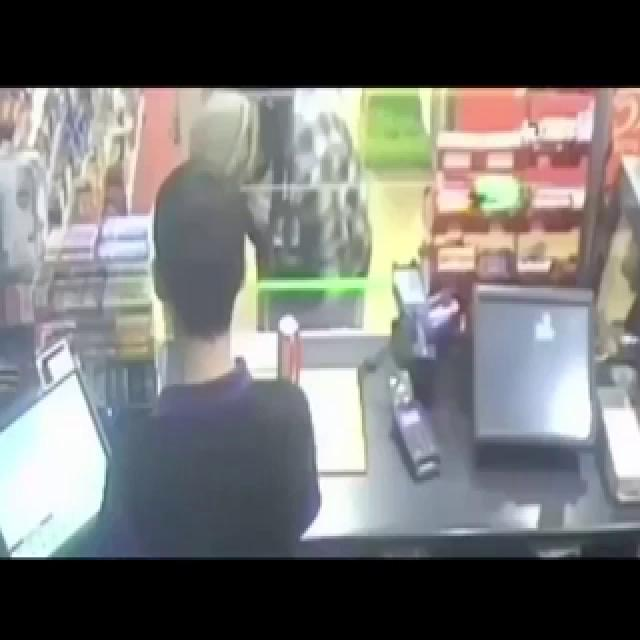robbery: (102, 88, 392, 465)
